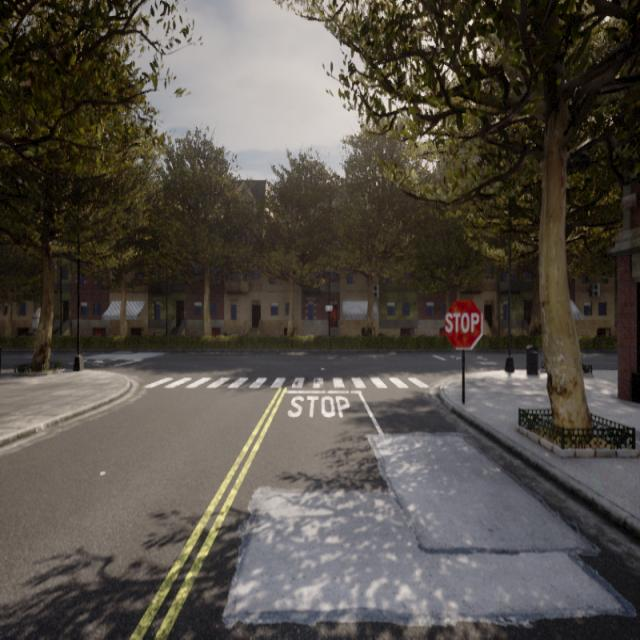stop sign: (442, 295, 484, 351)
